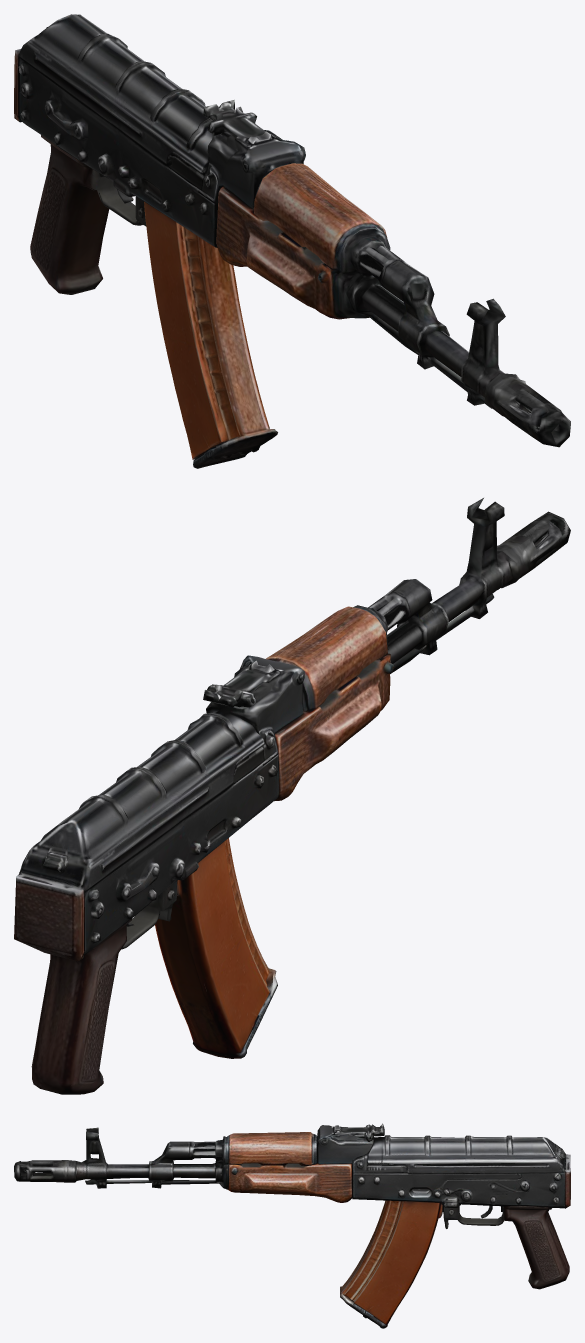
3 renders of one model, top to bottom at view 1: azimuth 30°, elevation 25°; view 2: azimuth 150°, elevation 25°; view 3: azimuth 270°, elevation 25°, orthographic. The views are drawn at different scales.
Parts seen in each view (by area): view 1: tripo_node_dee69aec-fd1f-4ffd-9214-8d8fee85584d; view 2: tripo_node_dee69aec-fd1f-4ffd-9214-8d8fee85584d; view 3: tripo_node_dee69aec-fd1f-4ffd-9214-8d8fee85584d.
Boxes of the visible parts, <box> form: tripo_node_dee69aec-fd1f-4ffd-9214-8d8fee85584d: <box>14,14,570,468</box>; tripo_node_dee69aec-fd1f-4ffd-9214-8d8fee85584d: <box>14,498,570,1094</box>; tripo_node_dee69aec-fd1f-4ffd-9214-8d8fee85584d: <box>14,1123,570,1328</box>.
Size of the model in its own units: 0.0983 by 0.3818 by 0.9804.
1 material, 1 textured.
